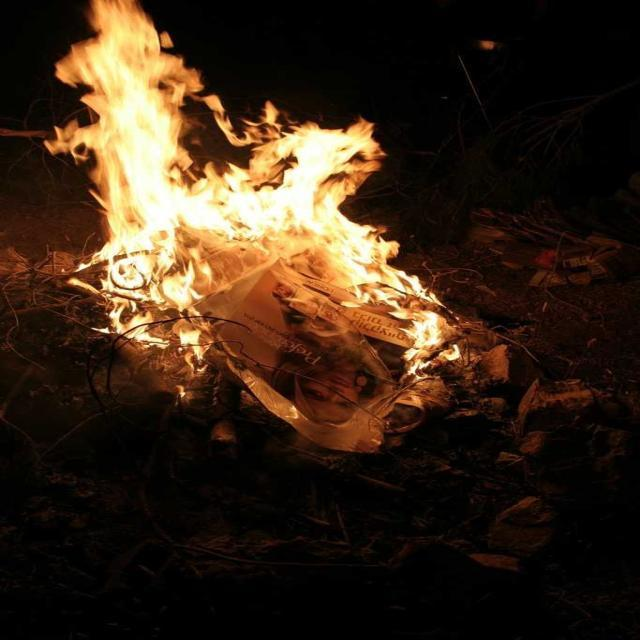Fire: (70, 19, 420, 388)
